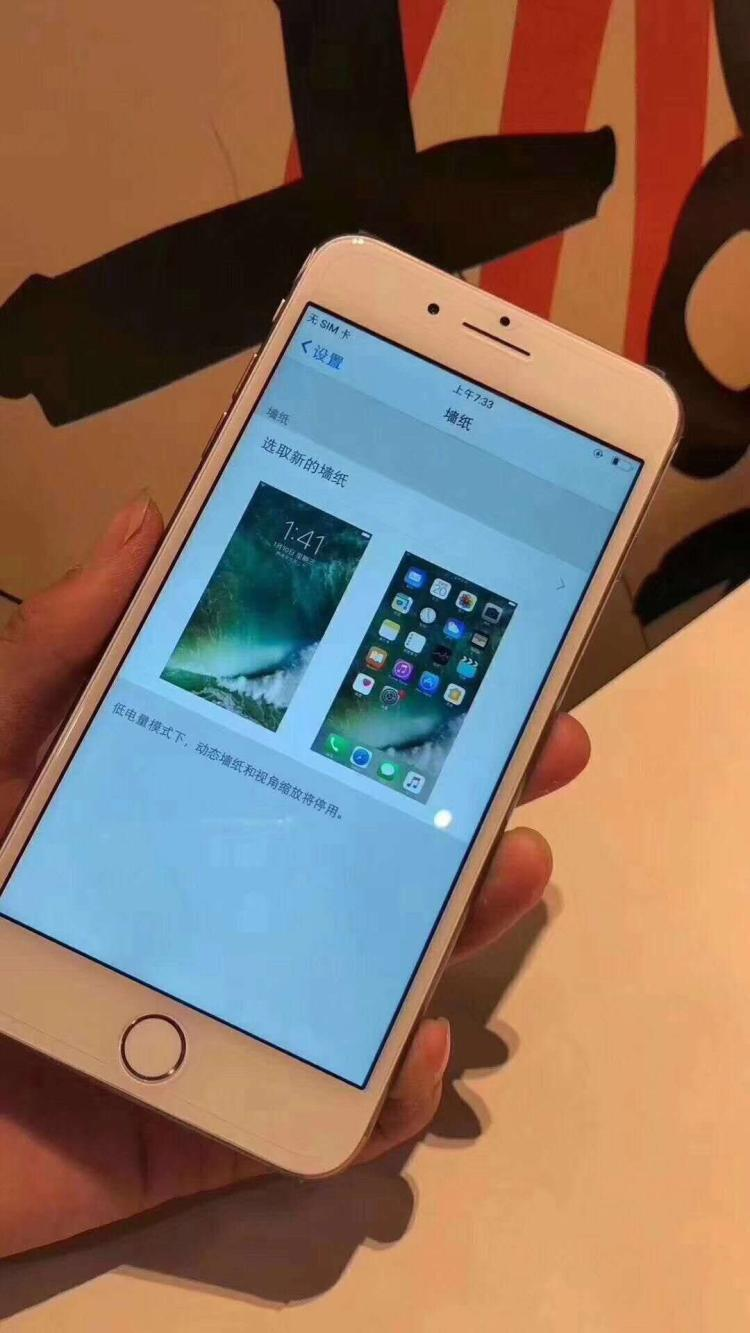phone: (8, 311, 677, 1108)
